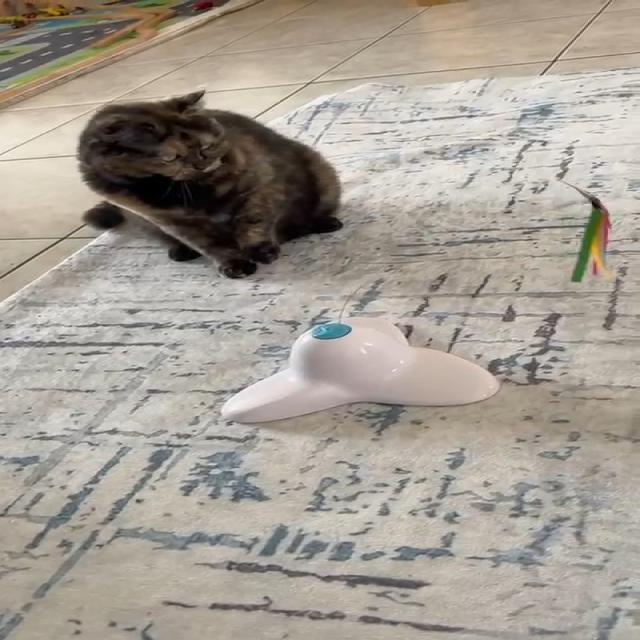authorized: (75, 89, 344, 278)
